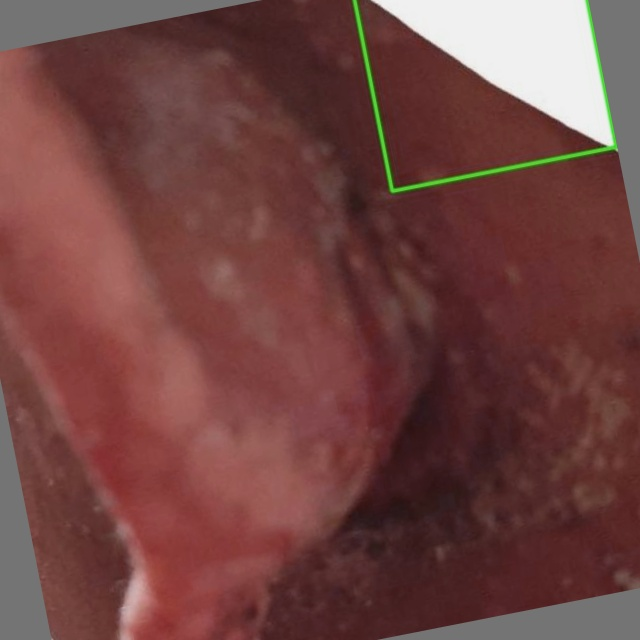Contact Dermatitis: (354, 0, 616, 191)
